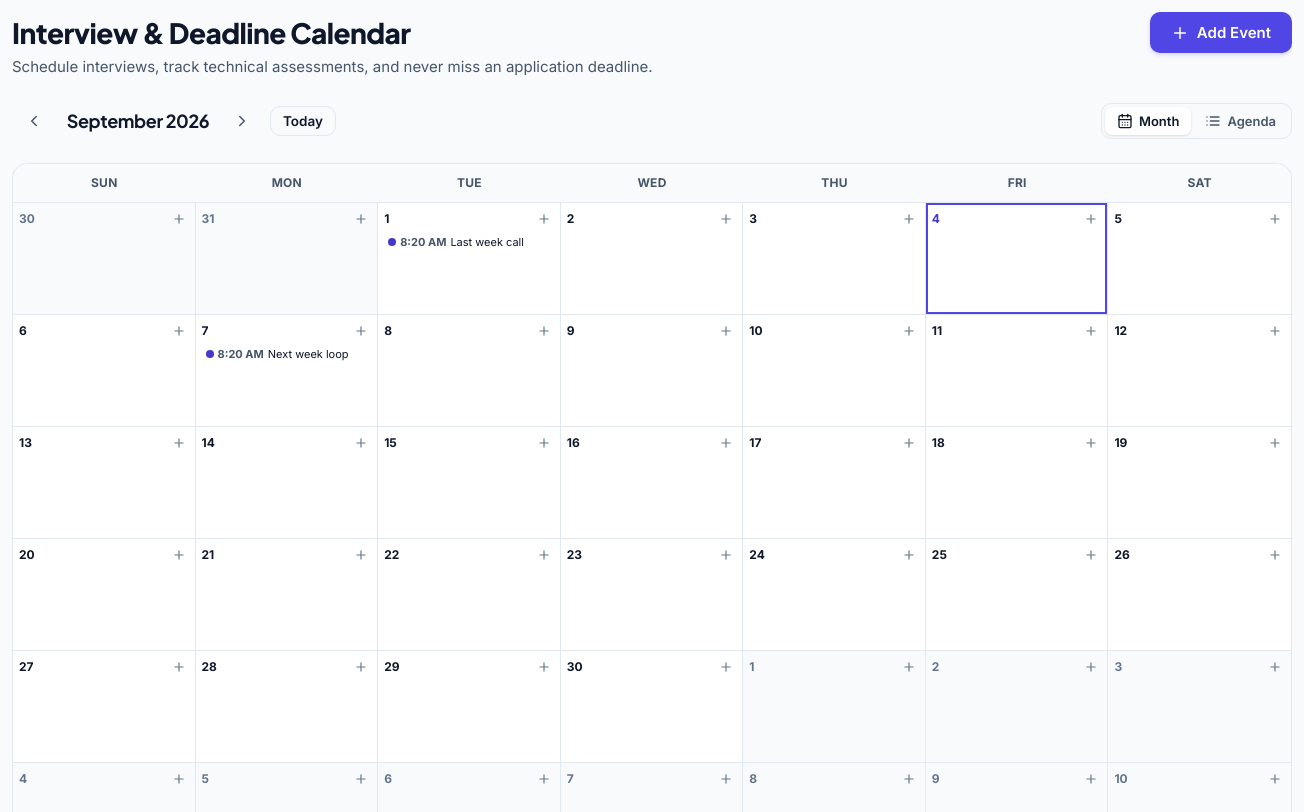
the agenda view › lists only what is still ahead
Click the radio button labelled "Agenda": {"x": 1241, "y": 120} [1193,106,1288,134]
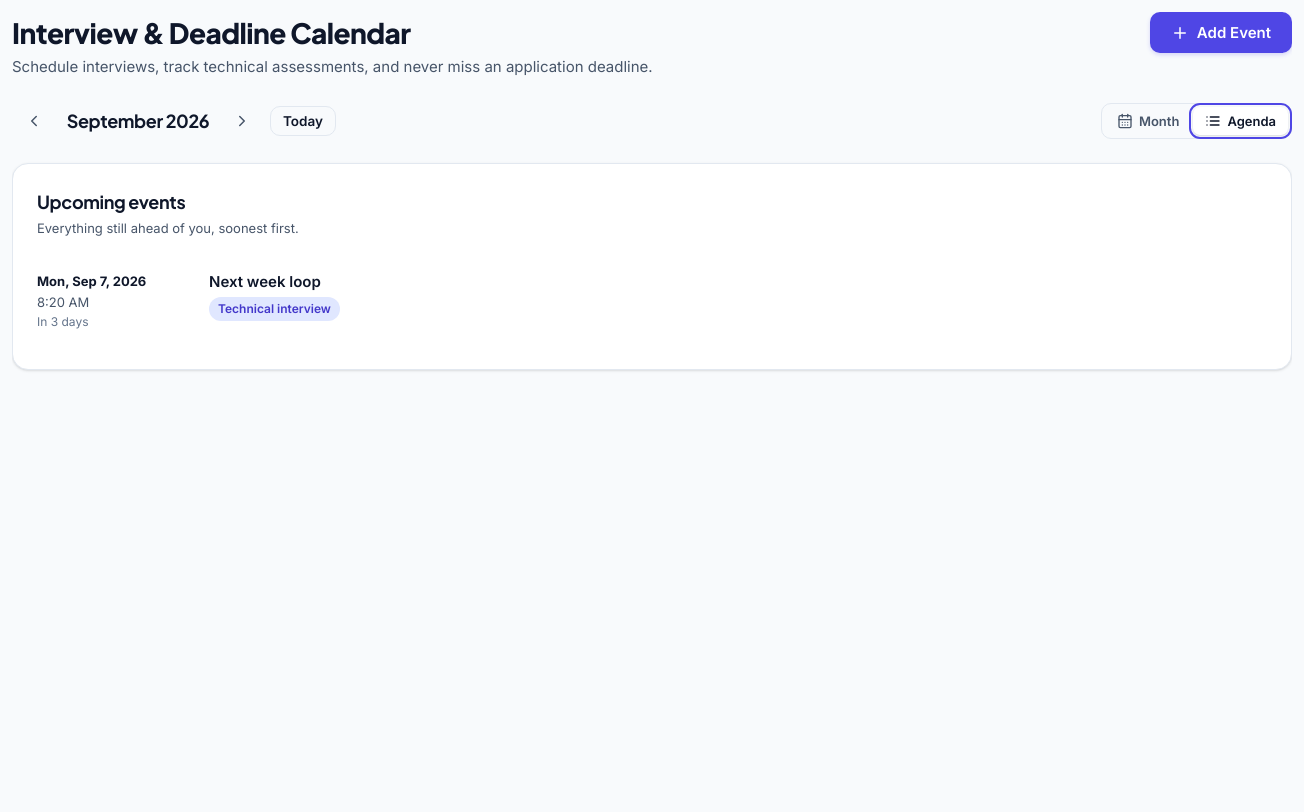
expect the button "Next week loop" is shown: met, box [209,272,1267,291]
expect the button "Last week call" is gone: met
